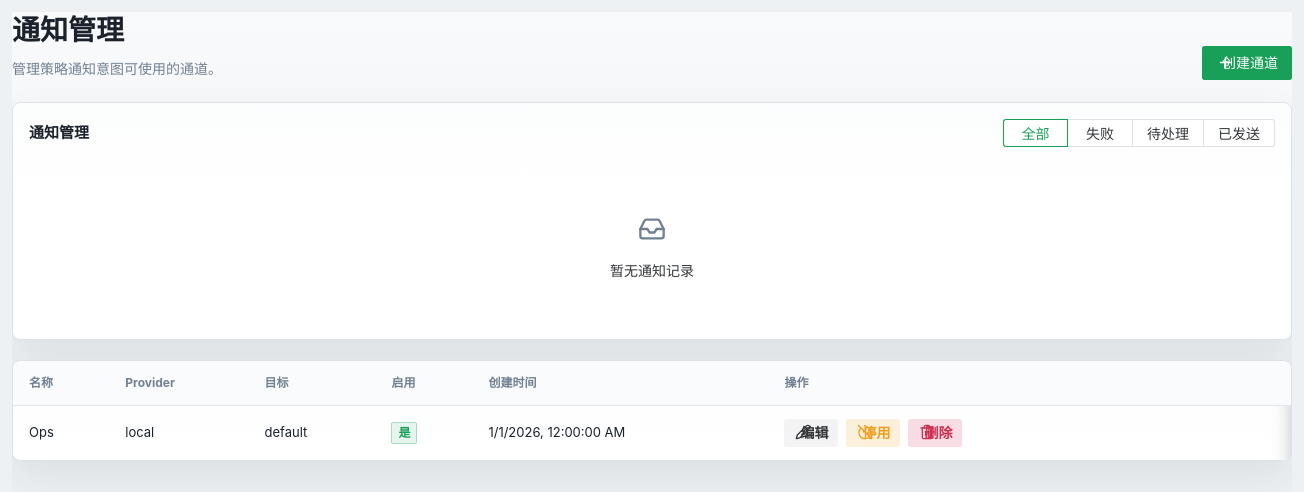
SystemNotificationsPage › toggles notification channel enabled state from the channel table
The width and height of the screenshot is (1304, 492).
Click the button "停用". click: [873, 433]
box: [846,419,900,447]
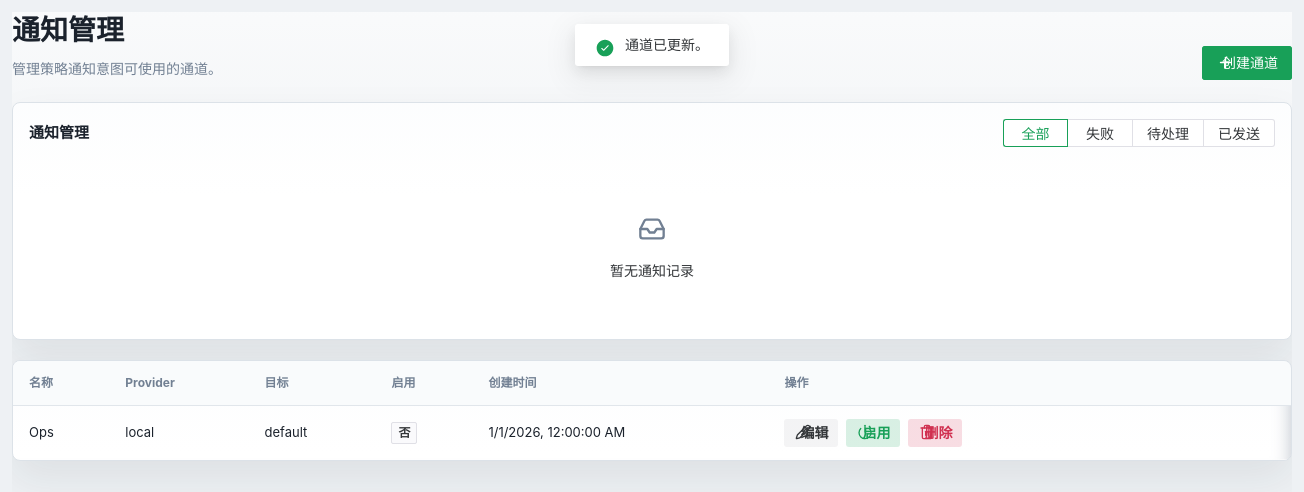
Expected: the row "Ops local default 否 1/1/2026, 12:00:00 AM 编辑 启用 删除" is shown, [13,406,1291,460]
